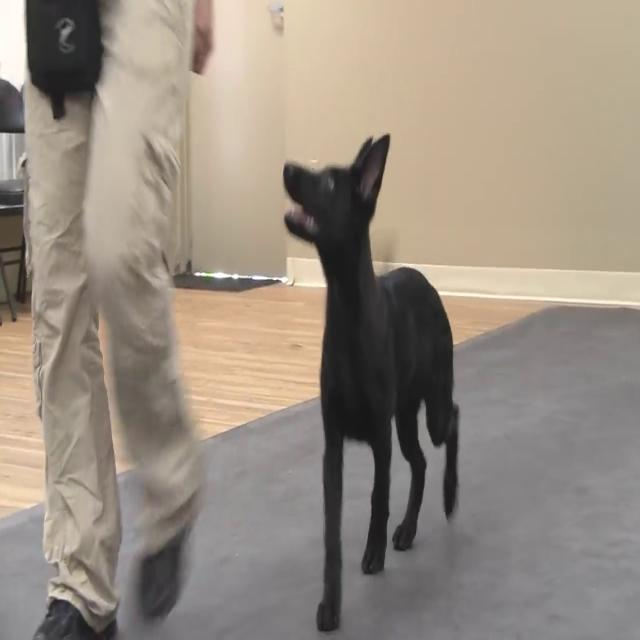Unleashed_Dog: (77, 2, 460, 635)
